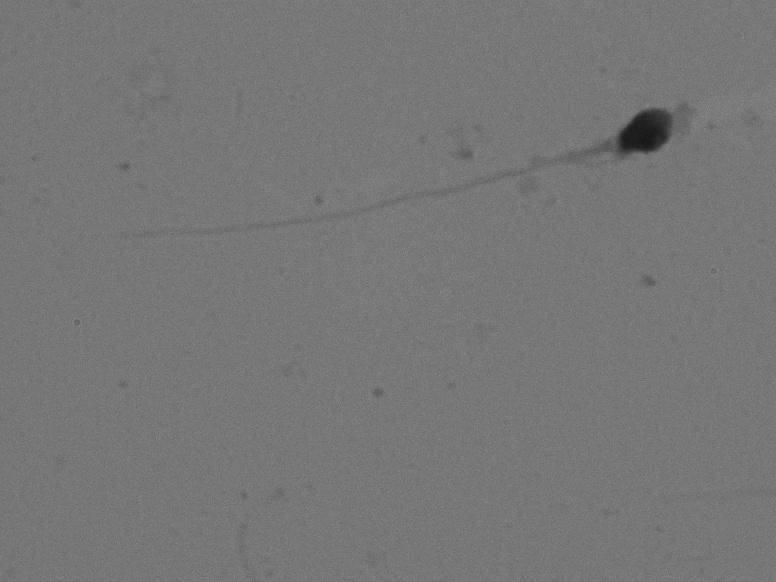Abnormal: (55, 82, 692, 281)
